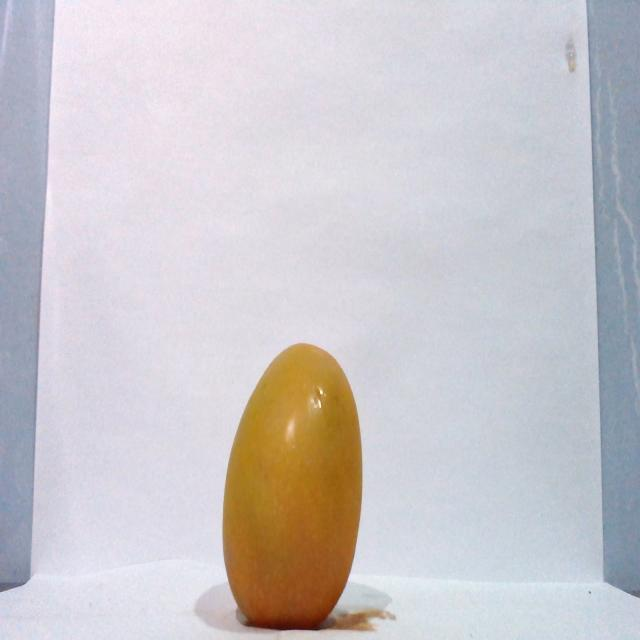Red: (220, 341, 364, 629)
